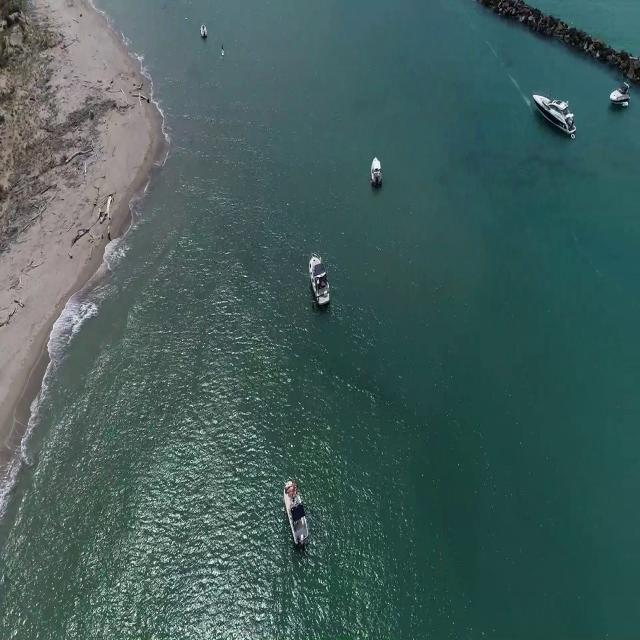boat: (532, 94, 577, 142), (284, 478, 307, 552), (309, 250, 332, 311), (608, 82, 632, 108), (372, 156, 387, 191), (200, 23, 208, 40)
person: (220, 41, 227, 52)
surfboard: (220, 49, 228, 62)
wood: (74, 194, 115, 240)
